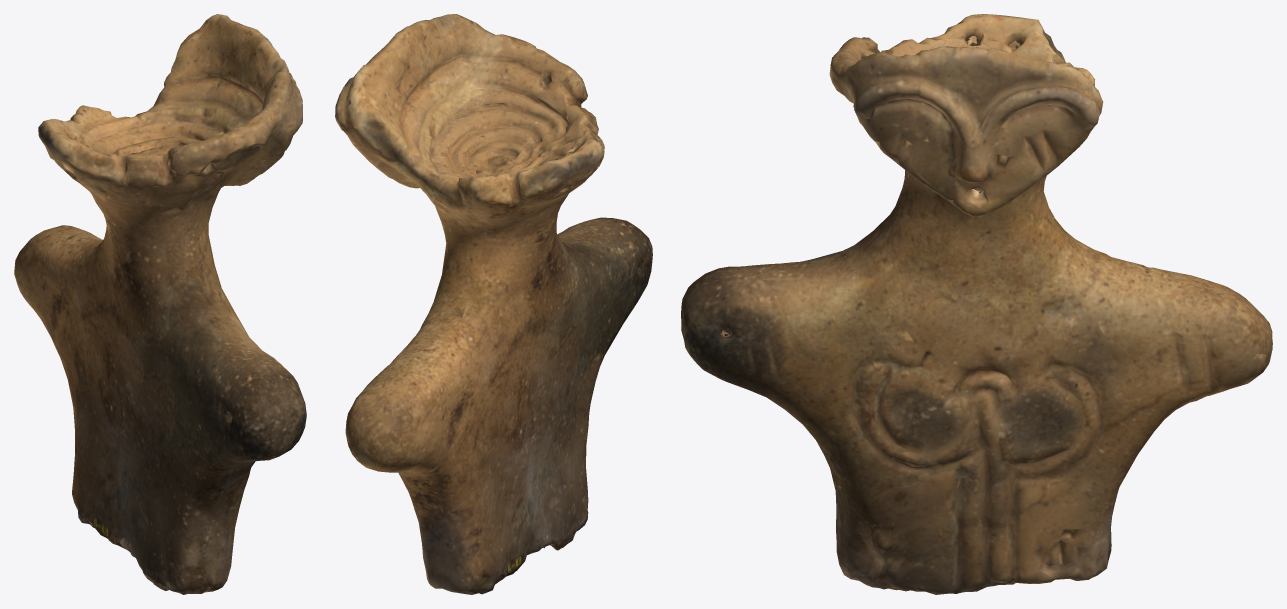
The picture shows the model from 3 angles, left to right: view 1: azimuth 30°, elevation 25°; view 2: azimuth 150°, elevation 25°; view 3: azimuth 270°, elevation 25°; orthographic projection. The views are drawn at different scales.
Visible parts, largest first — view 1: UD0028_low; view 2: UD0028_low; view 3: UD0028_low.
Part boxes in pixels (left/top/right/bottom): UD0028_low: left=14, top=14, right=306, bottom=594; UD0028_low: left=335, top=14, right=652, bottom=594; UD0028_low: left=681, top=14, right=1272, bottom=594.
Size of the model in its own units: 83.11 by 185 by 168.
1 material, 1 textured.
